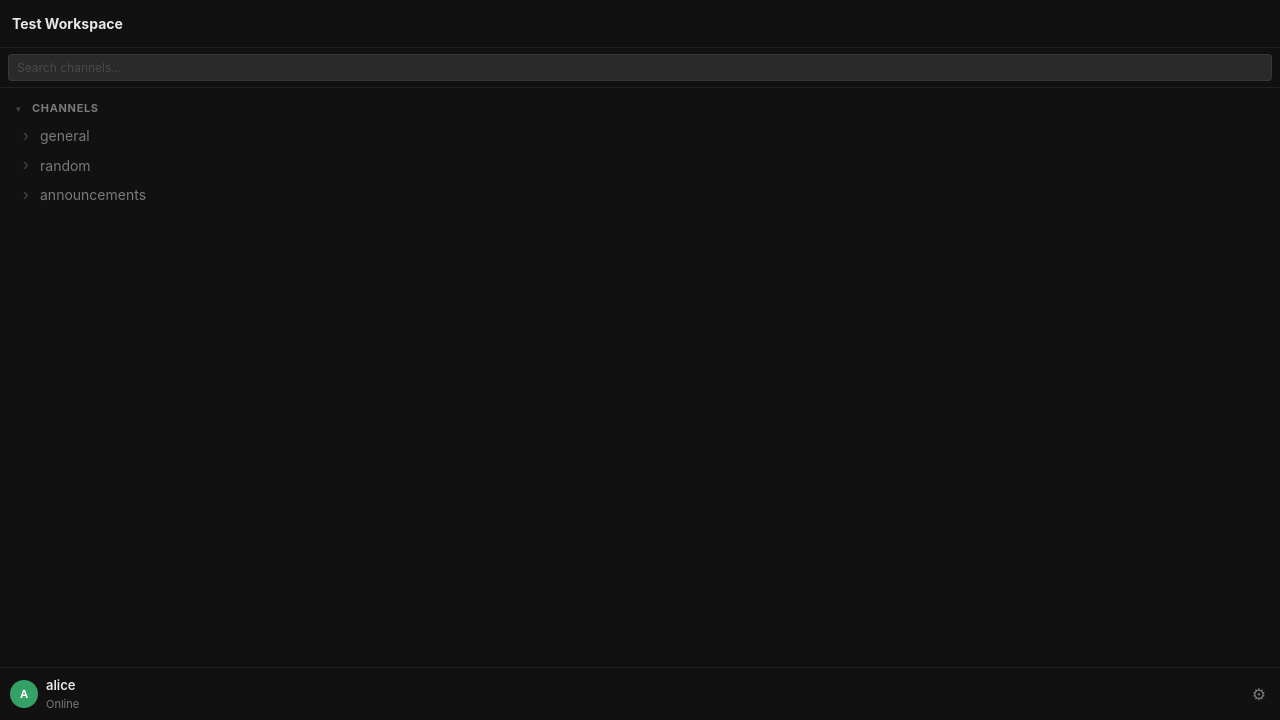
Test: ChannelSidebar — channel search › filters channels by search term
This screenshot has width=1280, height=720.
Type "gen" into the field labelled "Search channels…" at (640, 68), box [8,54,1272,81]
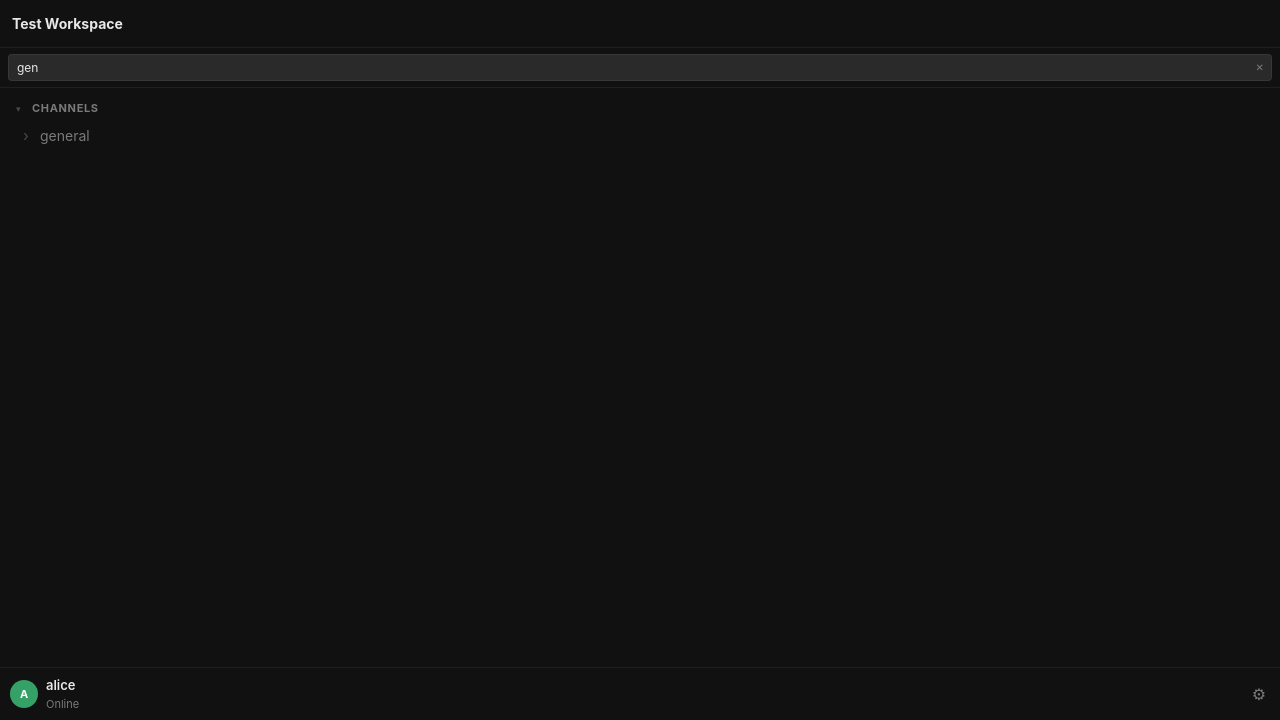
Expected: the text "general" is shown, [40,127,90,144]
Expected: the button "random" is gone
Expected: the button "announcements" is gone
